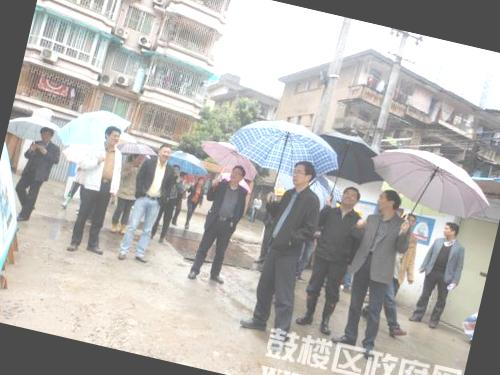no_helmet: (372, 183, 406, 220), (288, 157, 318, 192), (98, 121, 124, 150), (336, 181, 362, 210), (438, 217, 464, 245), (153, 139, 174, 163), (225, 162, 246, 186), (36, 123, 54, 146)
